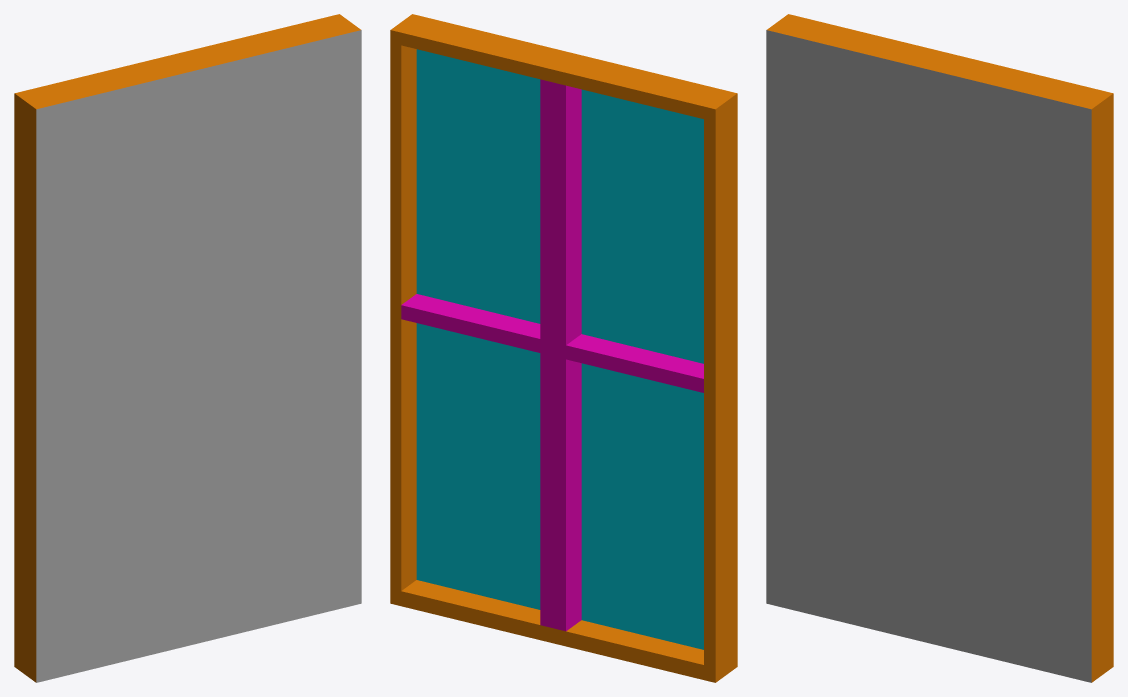
File: Window2.fbx
The picture shows the model from 3 angles, left to right: view 1: azimuth 30°, elevation 25°; view 2: azimuth 150°, elevation 25°; view 3: azimuth 330°, elevation 25°; orthographic projection.
Parts seen in each view (by area): view 1: pCube108; view 2: pCube108; view 3: pCube108.
Part boxes in pixels (<box>): pCube108: <box>14,14,361,682</box>; pCube108: <box>390,14,737,682</box>; pCube108: <box>766,14,1113,682</box>.
Bounding box in the file's own units: 15.18 × 25.59 × 1.77.
